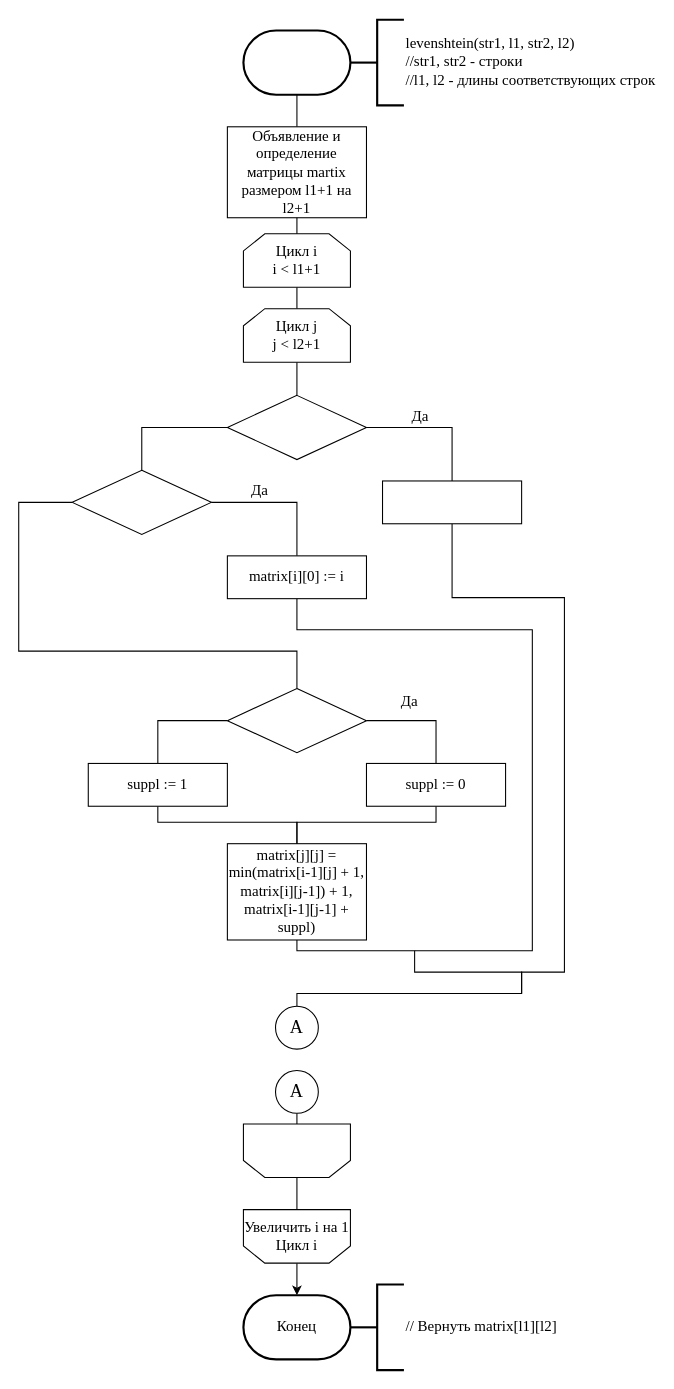
The diagram is 674 pixels wide and 1389 high, and some of its shapes have lost their labels. Here are the shapes that lost their labels. From the top down, the centre of each, then its label:
At (296,62): "Начало".
At (296,427): "i=0".
At (141,501): "j=0".
At (451,502): "matrix[0][j] := j".
At (296,720): "s1[i-1] = s2[j-1]".
At (296,1150): "Увеличить j на 1 Цикл j".
